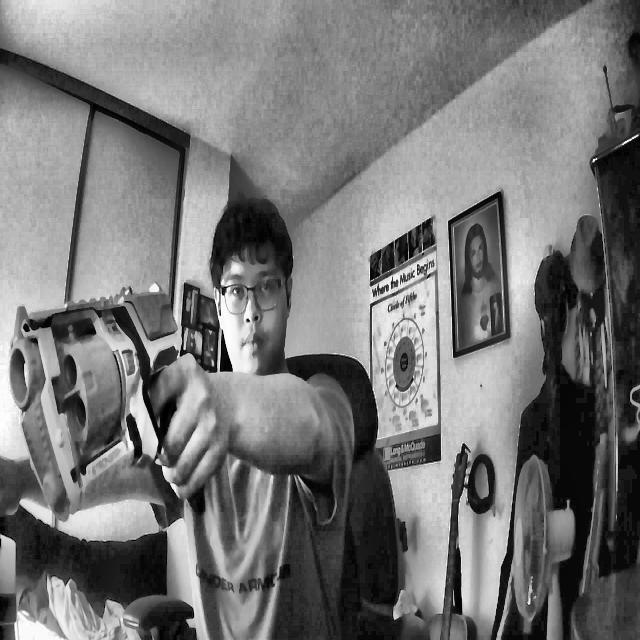Nerf_Blaster: (8, 282, 185, 524)
